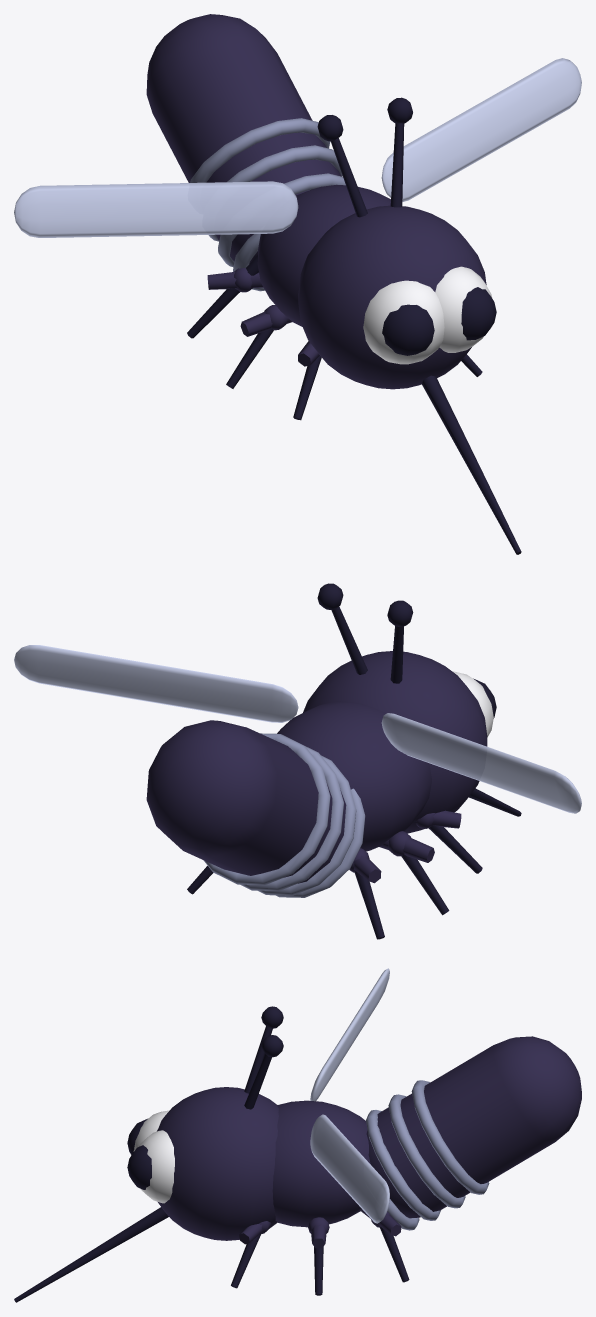
File: mosquito.glb
The picture shows the model from 3 angles, top to bottom: view 1: azimuth 30°, elevation 25°; view 2: azimuth 150°, elevation 25°; view 3: azimuth 270°, elevation 25°; orthographic projection. The views are drawn at different scales.
Parts seen in each view (by area): view 1: mosquito, abdomen, wingL, wingR; view 2: mosquito, abdomen, wingR, wingL; view 3: mosquito, abdomen, wingR, wingL.
Boxes of the visible parts, x1,y1,x2,y2 form: mosquito: (187, 97, 521, 554); abdomen: (146, 14, 345, 291); wingL: (14, 181, 298, 237); wingR: (381, 58, 581, 201); mosquito: (187, 583, 521, 939); abdomen: (146, 720, 365, 897); wingR: (14, 645, 298, 722); wingL: (381, 713, 581, 813); mosquito: (14, 1006, 409, 1302); abdomen: (366, 1036, 581, 1230); wingR: (310, 1114, 389, 1223); wingL: (310, 968, 389, 1101).
Size of the model in its own units: 1.36 by 0.7727 by 1.42.
